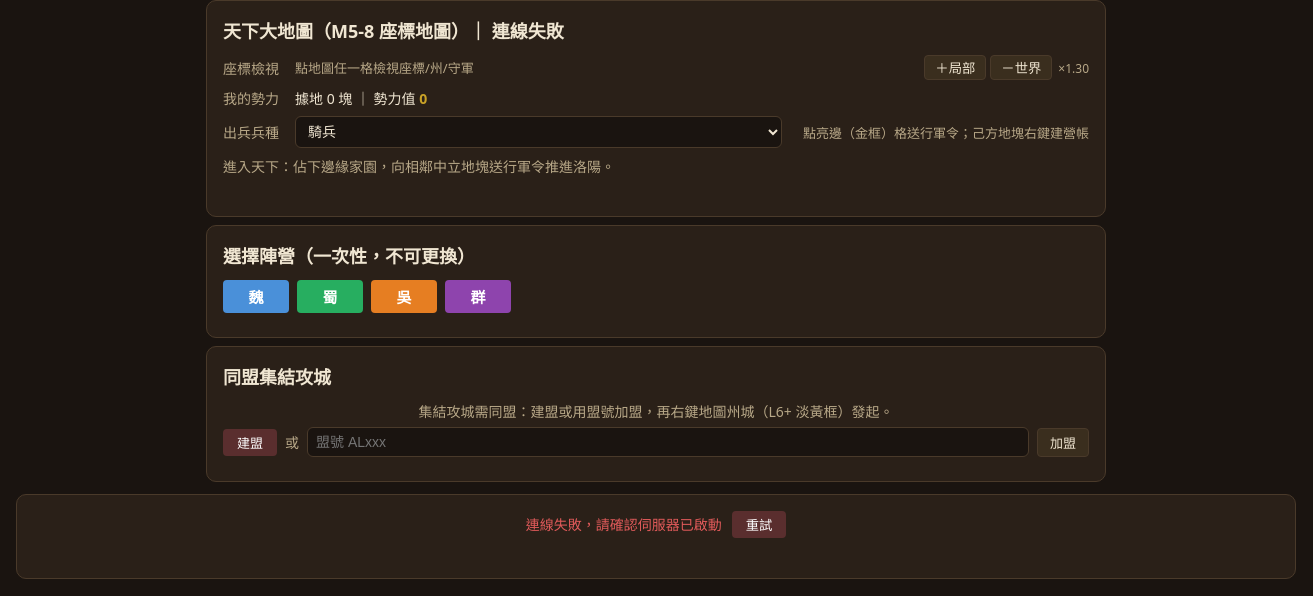
Test: World（天下大地圖）連線逾時 + 重試 › 重試後連上，顯示已連線（不再卡在載入天下…的錯誤態）
Step 1. Click the button "重試" → (759, 524), box x1=732 y1=511 x2=786 y2=538
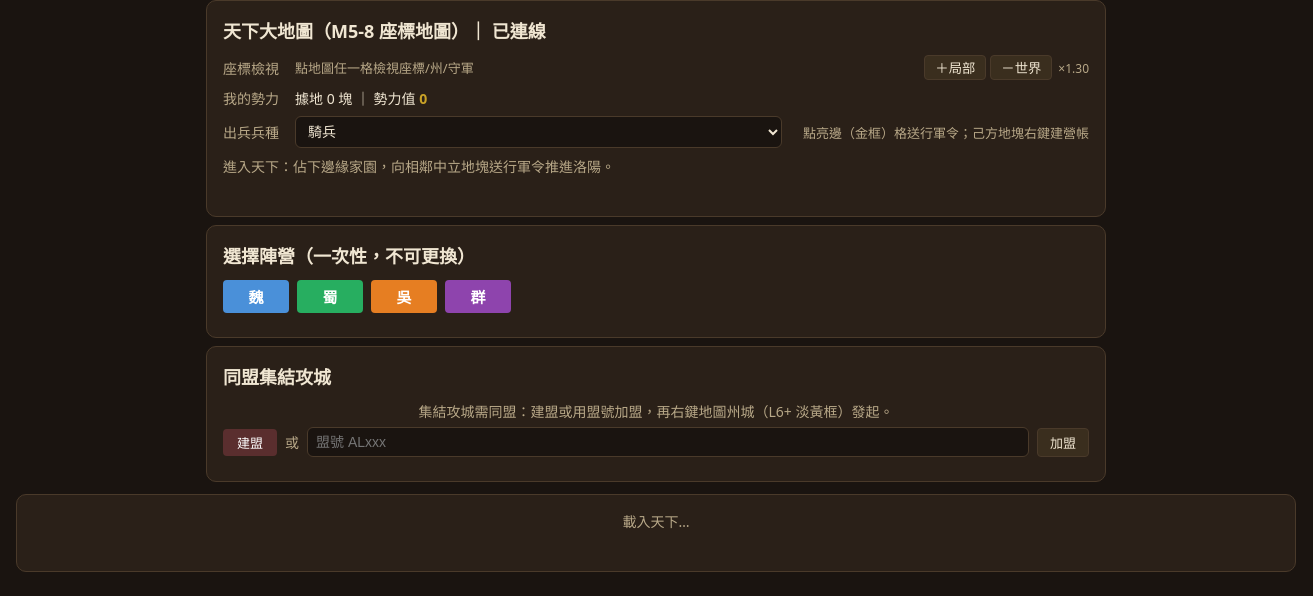
expect the heading "天下大地圖（M5-8 座標地圖）｜ 已連線" is shown: met, box x1=223 y1=19 x2=546 y2=43
expect the text "連線失敗，請確認伺服器已啟動" is gone: met
